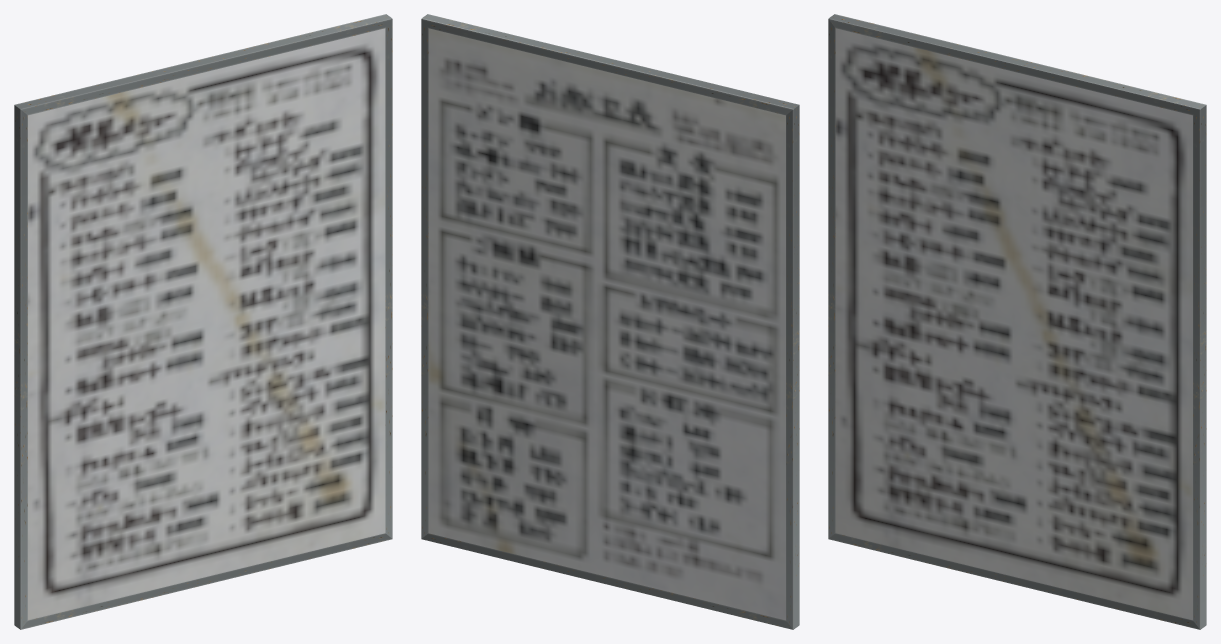
The model's file is shopboard02b.fbx.
3 renders of one model, left to right at view 1: azimuth 30°, elevation 25°; view 2: azimuth 150°, elevation 25°; view 3: azimuth 330°, elevation 25°, orthographic.
Visible parts, largest first — view 1: shopboard02b; view 2: shopboard02b; view 3: shopboard02b.
Part boxes in pixels (x1,y1,x2,y2): shopboard02b: (14,14,392,629); shopboard02b: (421,14,799,629); shopboard02b: (828,14,1206,629).
Bounding box in the file's own units: 83.03 × 111 × 2.51.
